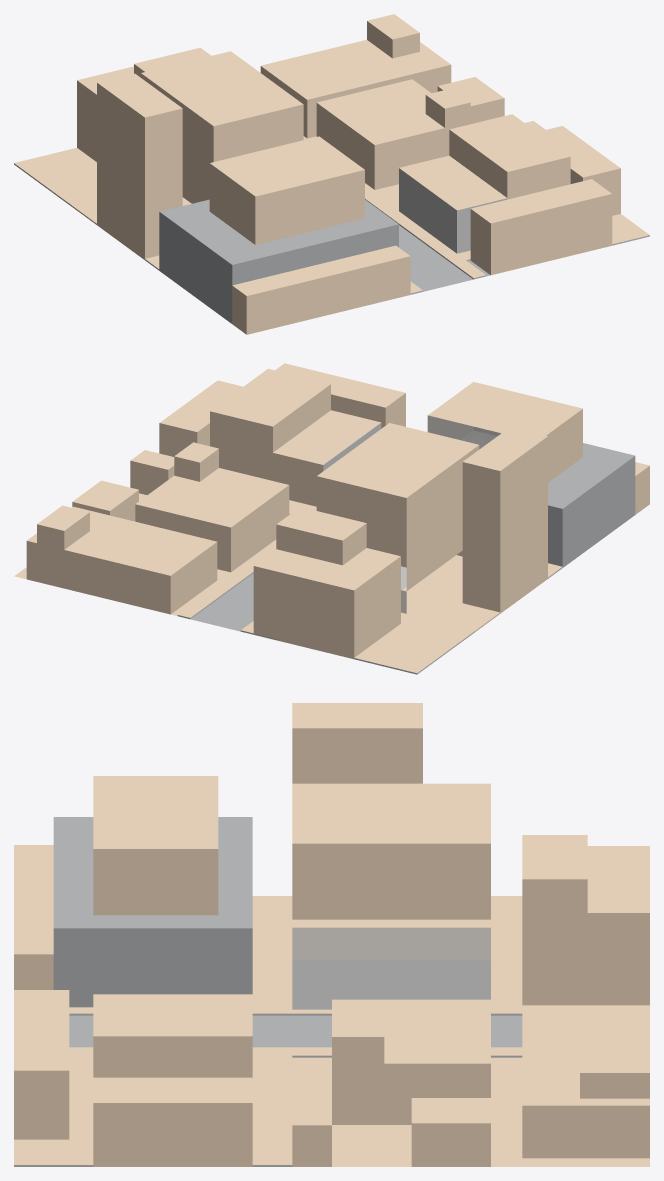
File: map04.gltf
3 renders of one model, top to bottom at view 1: azimuth 30°, elevation 25°; view 2: azimuth 150°, elevation 25°; view 3: azimuth 270°, elevation 25°, orthographic. The views are drawn at different scales.
Parts seen in each view (by area): view 1: Node47, Node98, Node104, Node39, Node57, Node44, Node42, Node101, Node56, Node92, Node48, Node27 (+33 smaller); view 2: Node85, Node5, Node47, Node104, Node8, Node106, Node45, Node57, Node56, Node42, Node92, Node89 (+37 smaller); view 3: Node85, Node91, Node87, Node90, Node96, Node104, Node101, Node35, Node65, Node16, Node57, Node42 (+26 smaller).
Boxes of the visible parts, box(x1,y1,x2,y2) form: Node47: box(72, 83, 144, 259); Node98: box(246, 256, 410, 334); Node104: box(141, 51, 302, 126); Node39: box(491, 194, 612, 275); Node57: box(261, 40, 450, 99); Node44: box(255, 170, 364, 244); Node42: box(210, 136, 364, 196); Node101: box(160, 199, 398, 264); Node56: box(317, 79, 444, 144); Node92: box(159, 212, 232, 323); Node48: box(145, 108, 182, 258); Node27: box(449, 114, 569, 171); Node85: box(241, 555, 562, 672); Node5: box(253, 566, 354, 659); Node47: box(475, 436, 547, 631); Node104: box(317, 423, 478, 497); Node8: box(26, 524, 170, 614); Node106: box(462, 462, 500, 612); Node45: box(406, 445, 479, 590); Node57: box(27, 506, 216, 575); Node56: box(135, 468, 288, 527); Node42: box(428, 382, 582, 435); Node92: box(562, 456, 635, 567); Node89: box(316, 476, 406, 567); Node85: box(69, 896, 649, 1013); Node91: box(292, 843, 490, 919); Node87: box(292, 927, 490, 1009); Node90: box(522, 879, 649, 1005); Node96: box(53, 928, 252, 1007); Node104: box(292, 783, 490, 843); Node101: box(53, 817, 252, 928); Node35: box(93, 1103, 252, 1166); Node65: box(14, 1047, 522, 1164); Node16: box(292, 1057, 649, 1166); Node57: box(522, 1009, 649, 1105); Node42: box(93, 776, 218, 848).
Size of the model in its own units: 2139194 by 723573 by 2139195.
